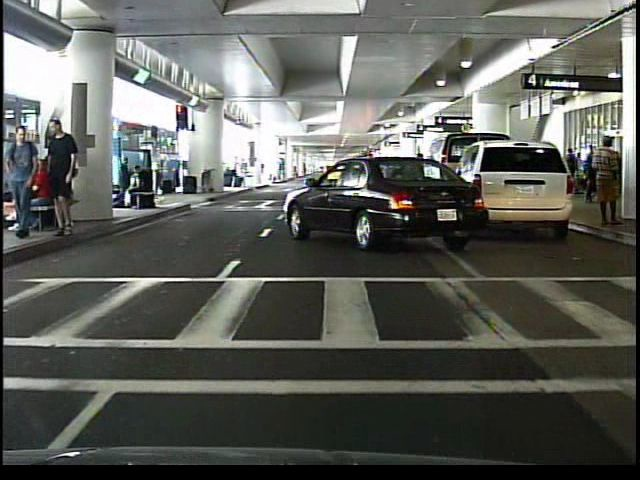person: (591, 133, 623, 230), (122, 162, 156, 212), (563, 145, 581, 174)
